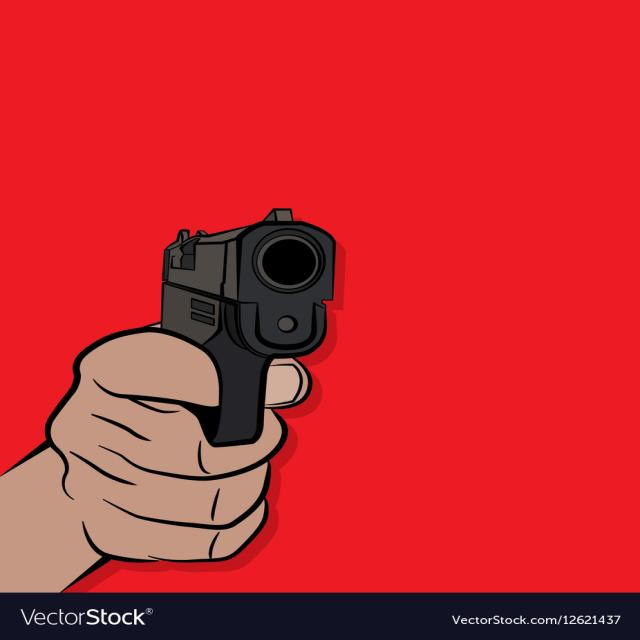HandGun: (156, 210, 336, 448)
